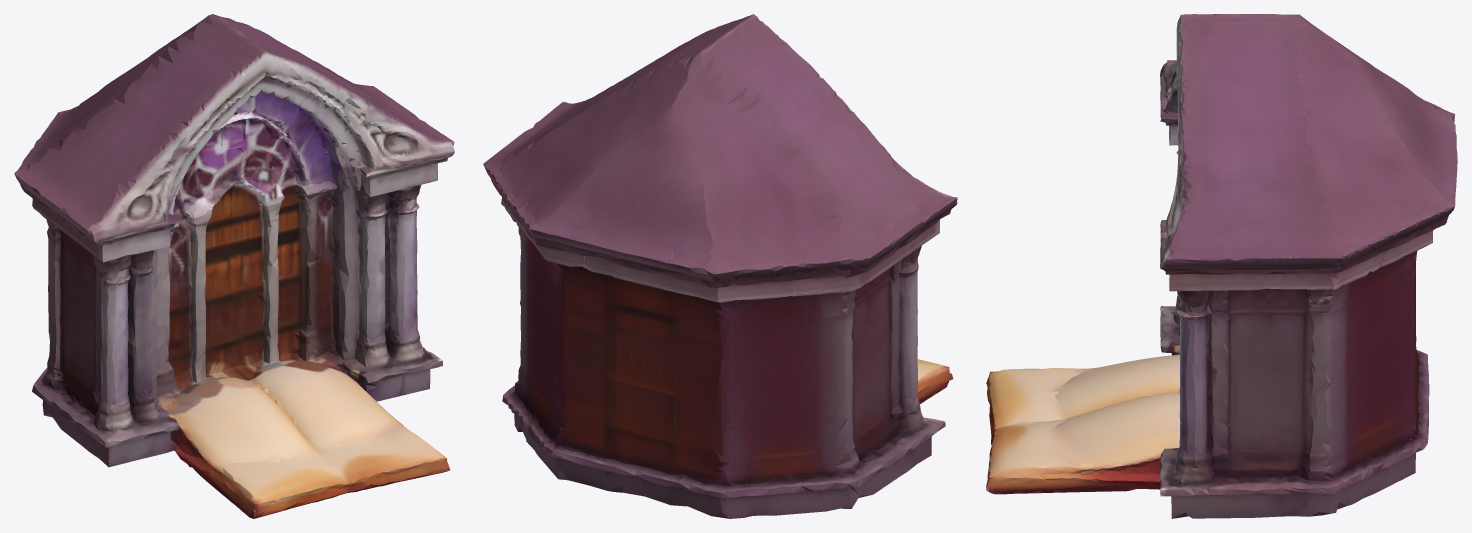
File: nightelf_library.glb
The picture shows the model from 3 angles, left to right: view 1: azimuth 30°, elevation 25°; view 2: azimuth 150°, elevation 25°; view 3: azimuth 270°, elevation 25°; orthographic projection. The views are drawn at different scales.
Parts seen in each view (by area): view 1: NightElf_Library; view 2: NightElf_Library; view 3: NightElf_Library.
Part boxes in pixels (box(x1,y1,x2,y2)): NightElf_Library: box(14, 14, 454, 518); NightElf_Library: box(483, 14, 957, 518); NightElf_Library: box(986, 14, 1457, 518).
Size of the model in its own units: 5.69 by 5.68 by 5.68.
Materials: 1 (1 with a texture image).
